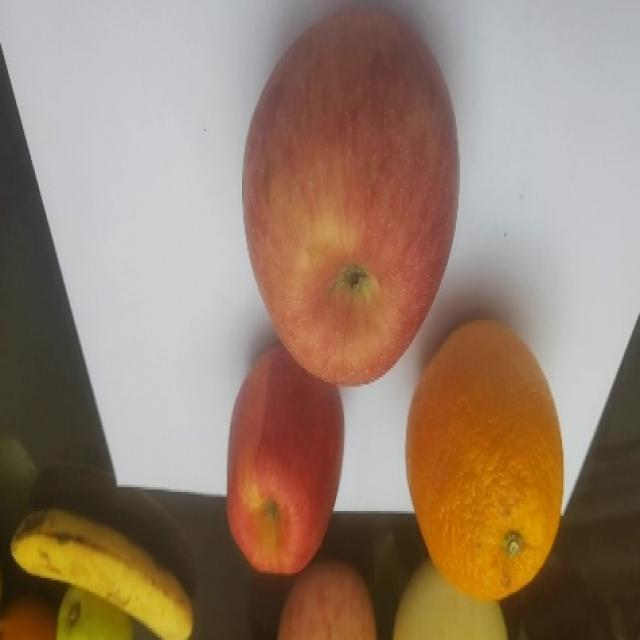Apple: (241, 5, 460, 386), (225, 340, 345, 575), (276, 558, 377, 639)
Orange: (404, 318, 564, 602)
